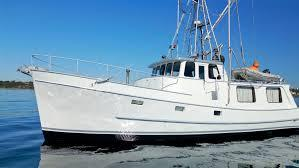Ship: (17, 3, 299, 152)
